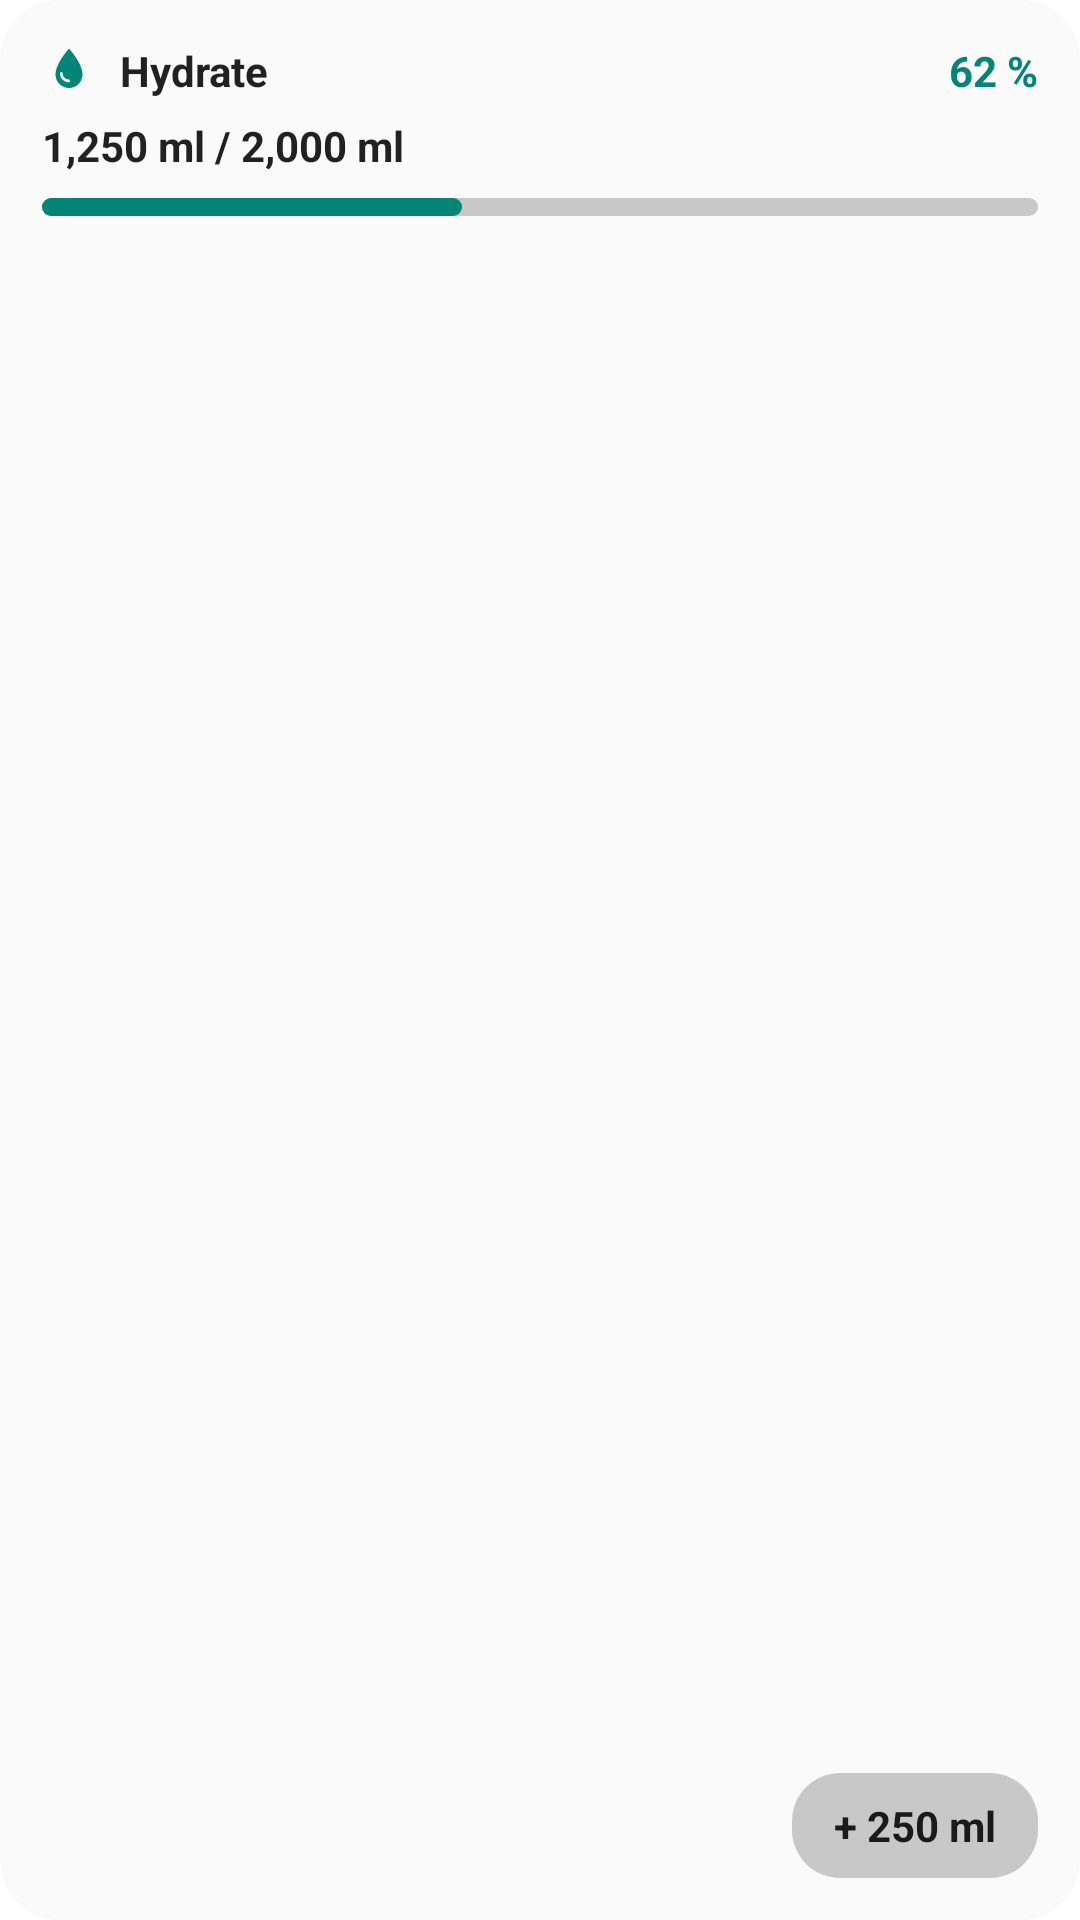

Named icons in this screenshot (1080px×1920px) and their centers, (x,y):
widget water drop: (69,68)
